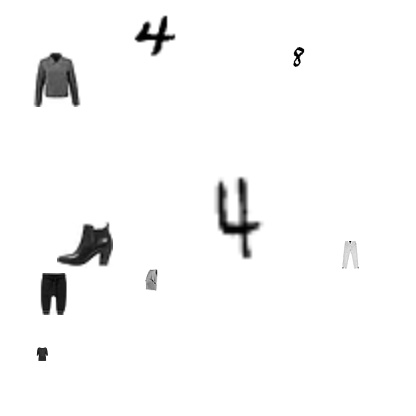4: (179, 158, 291, 270), (127, 6, 183, 62)
8: (284, 42, 312, 70)
Ankle_boot: (57, 216, 113, 272)
Coat: (28, 51, 84, 107)
Shirt: (35, 347, 49, 361)
T-shirt/top: (140, 269, 162, 291)
Trouser: (32, 273, 74, 315), (336, 241, 364, 269)
